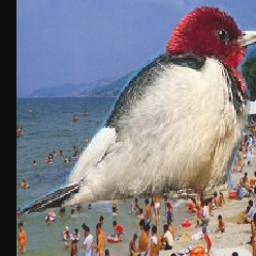Woodpecker: (18, 4, 256, 213)
